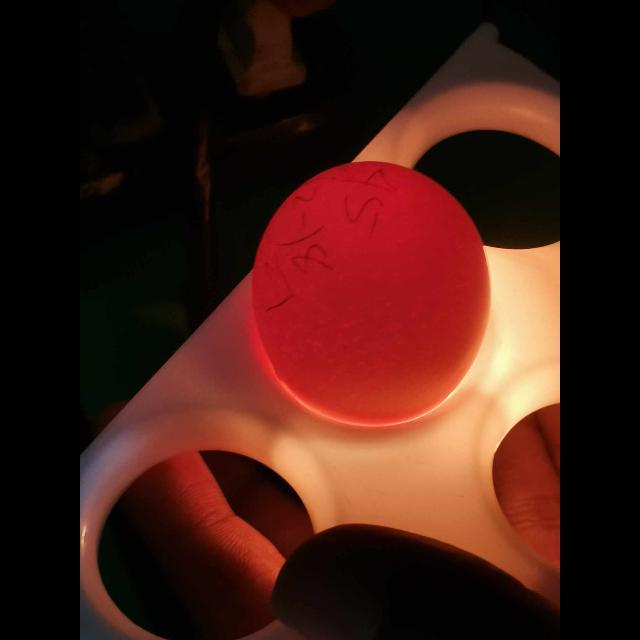Infertile: (252, 152, 492, 428)
